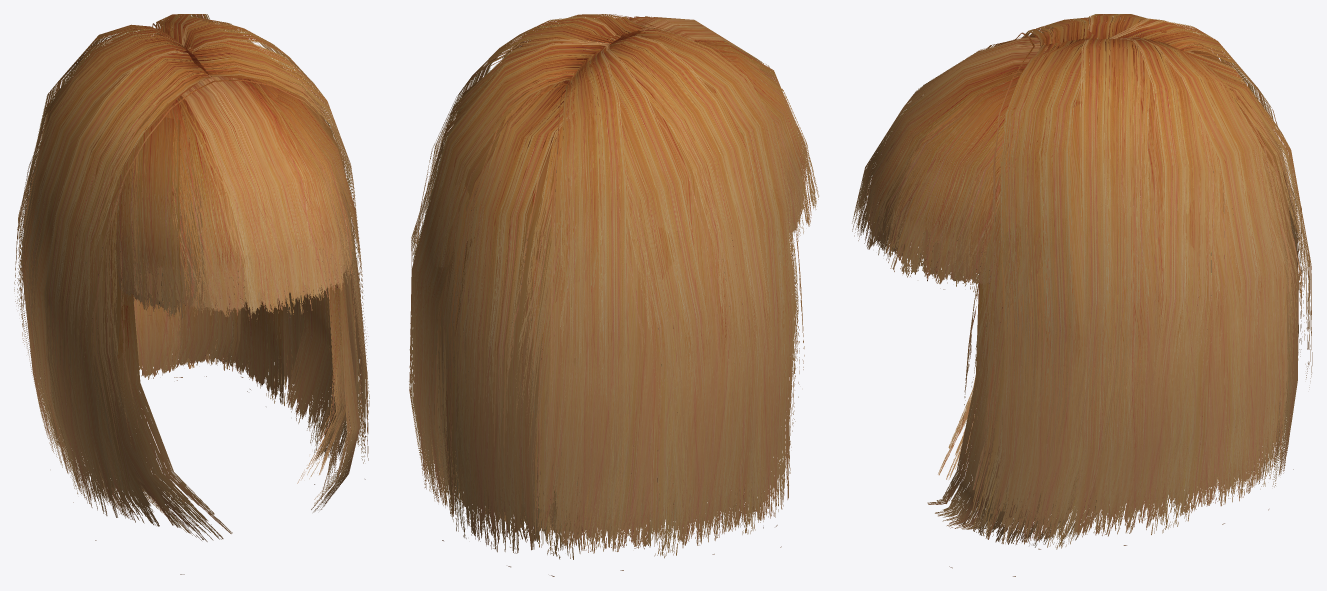
File: mh_elvs_witchy_lil_bob.glb
3 renders of one model, left to right at view 1: azimuth 30°, elevation 25°; view 2: azimuth 150°, elevation 25°; view 3: azimuth 270°, elevation 25°, orthographic. The views are drawn at different scales.
Visible parts, largest first — view 1: mh_elvs_witchy_lil_bob; view 2: mh_elvs_witchy_lil_bob; view 3: mh_elvs_witchy_lil_bob.
Boxes of the visible parts, left/top/right/bottom form: mh_elvs_witchy_lil_bob: left=14, top=14, right=369, bottom=574; mh_elvs_witchy_lil_bob: left=409, top=14, right=818, bottom=576; mh_elvs_witchy_lil_bob: left=852, top=14, right=1312, bottom=576.
Size of the model in its own units: 0.2297 by 0.3419 by 0.2839.
1 material, 1 textured.
